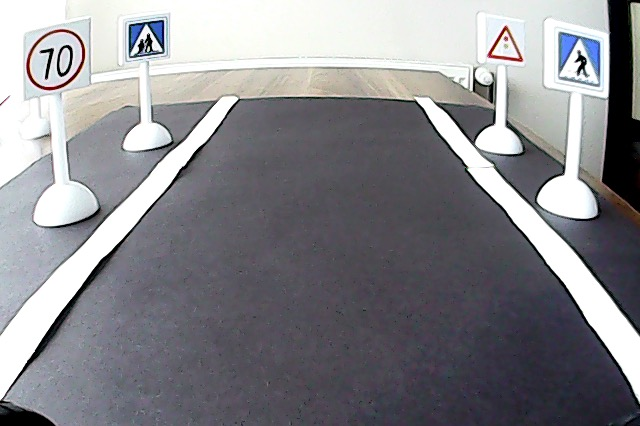pedestrian crossing: (551, 26, 606, 96)
red light: (486, 21, 524, 63)
school crossing: (121, 18, 169, 60)
speed limit 70: (26, 30, 86, 88)
